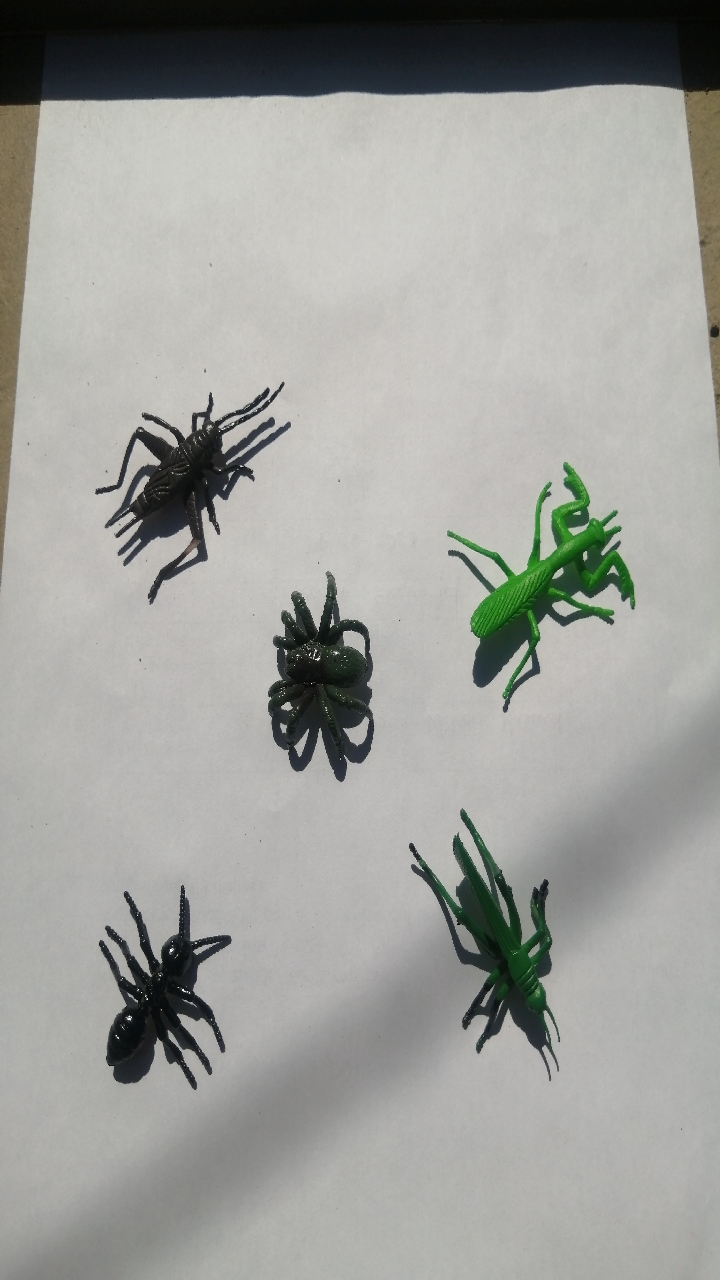intruso: (380, 772, 606, 1094), (431, 431, 669, 712), (69, 343, 318, 608), (49, 832, 255, 1119), (224, 566, 421, 803)
